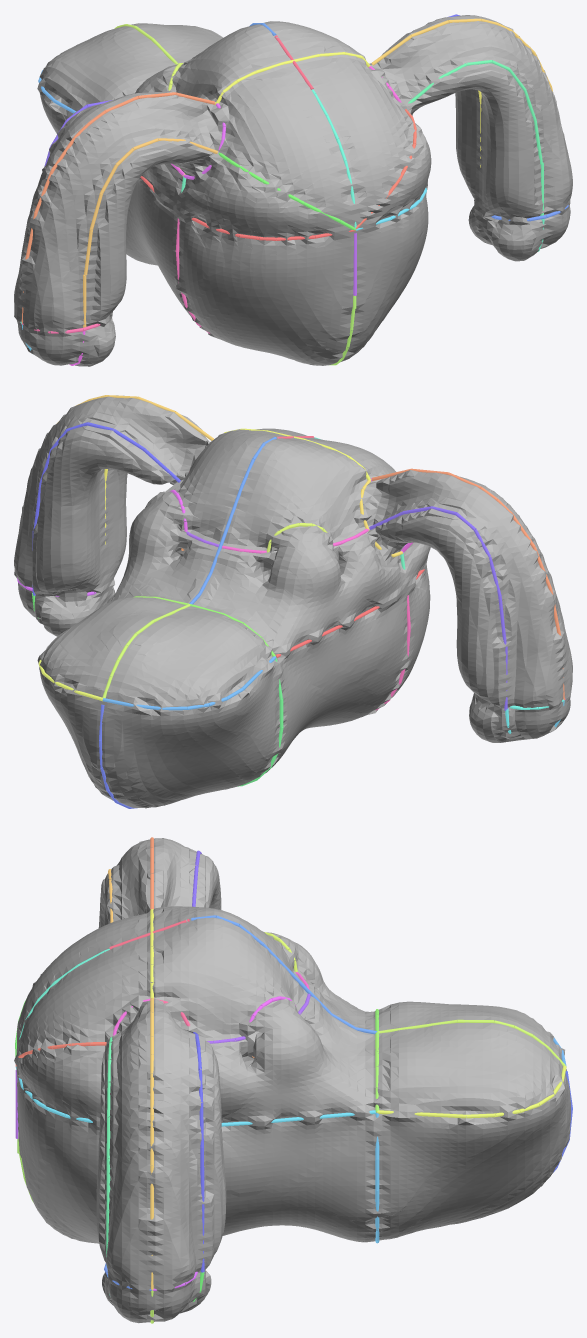
Rendered from scaffolds3d_dog.gltf.
3 views of the same model, one above another, from view 1: azimuth 30°, elevation 25°; view 2: azimuth 150°, elevation 25°; view 3: azimuth 270°, elevation 25° (orthographic). The views are drawn at different scales.
Bounding box in the file's own units: 0.7214 × 0.3768 × 0.5928.
